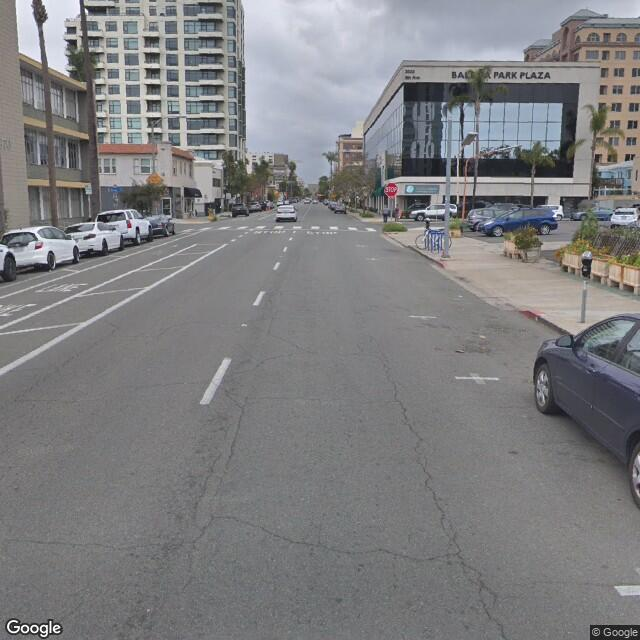road line: (53, 259, 197, 318), (240, 243, 292, 317)
window: (52, 85, 77, 118), (516, 117, 542, 144)
